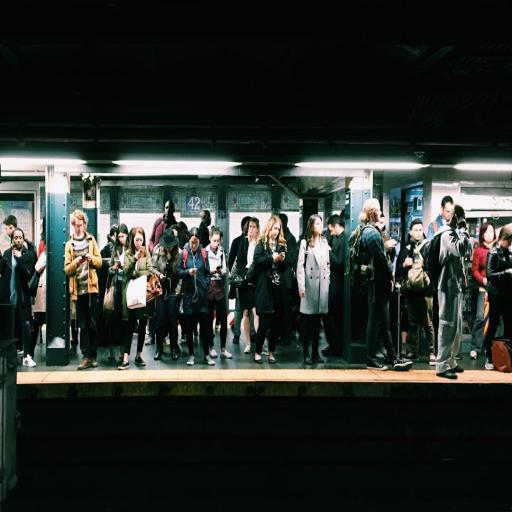face: (12, 230, 24, 249), (410, 224, 423, 241), (441, 203, 454, 220), (74, 219, 85, 238), (484, 225, 494, 244), (210, 234, 220, 250), (248, 222, 257, 239), (313, 218, 322, 235), (134, 233, 143, 250), (271, 223, 280, 240), (189, 236, 199, 251), (329, 225, 341, 236), (118, 233, 127, 247), (4, 225, 14, 236)
